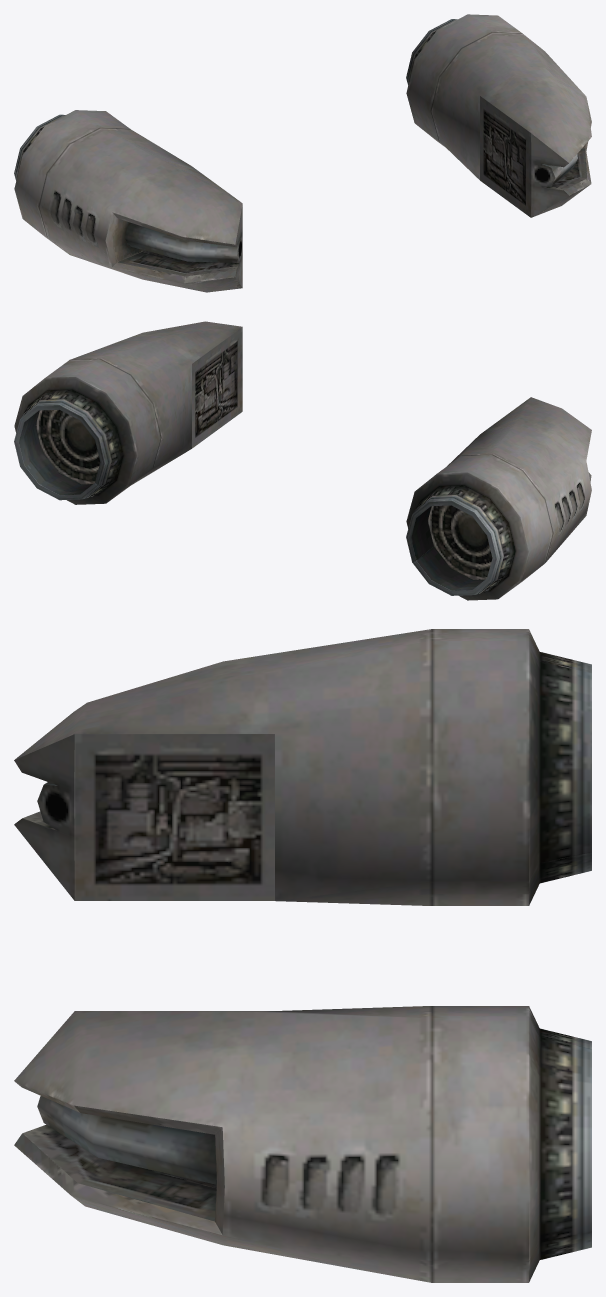
File: hutt_fighter_heavy_booster_s02_l0.fbx
3 renders of one model, top to bottom at view 1: azimuth 30°, elevation 25°; view 2: azimuth 150°, elevation 25°; view 3: azimuth 270°, elevation 25°, orthographic. The views are drawn at different scales.
Visible parts, largest first — view 1: mesh_node; view 2: mesh_node; view 3: mesh_node.
Boxes of the visible parts, x1=… form: mesh_node: x1=14, y1=14, x2=591, y2=292; mesh_node: x1=14, y1=321, x2=591, y2=600; mesh_node: x1=14, y1=629, x2=591, y2=1282.
Size of the model in its own units: 9.67 by 2.3 by 4.78.
1 material, 1 textured.
